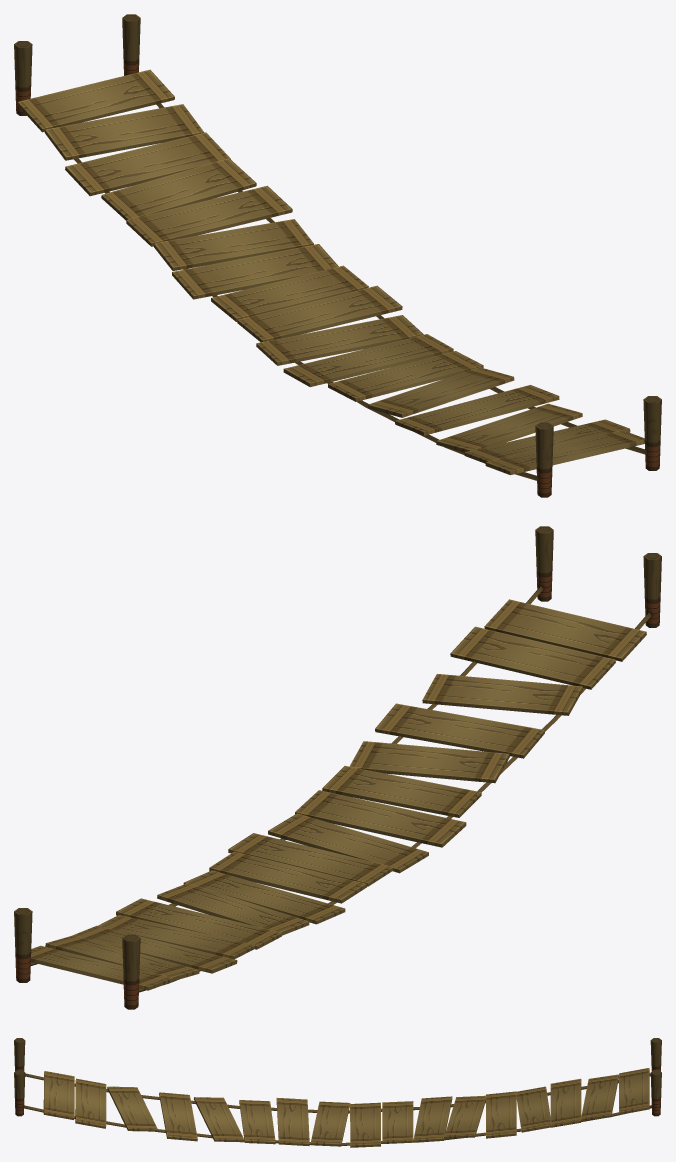
Rendered from Wooden_Bridge_03.FBX.
3 renders of one model, top to bottom at view 1: azimuth 30°, elevation 25°; view 2: azimuth 150°, elevation 25°; view 3: azimuth 270°, elevation 25°, orthographic. The views are drawn at different scales.
Visible parts, largest first — view 1: Wooden_Bridge_03; view 2: Wooden_Bridge_03; view 3: Wooden_Bridge_03.
Part boxes in pixels (bbox=[...]): Wooden_Bridge_03: bbox=[14, 14, 661, 497]; Wooden_Bridge_03: bbox=[14, 526, 661, 1009]; Wooden_Bridge_03: bbox=[14, 1038, 661, 1147].
Size of the model in its own units: 50.64 by 36.37 by 289.
